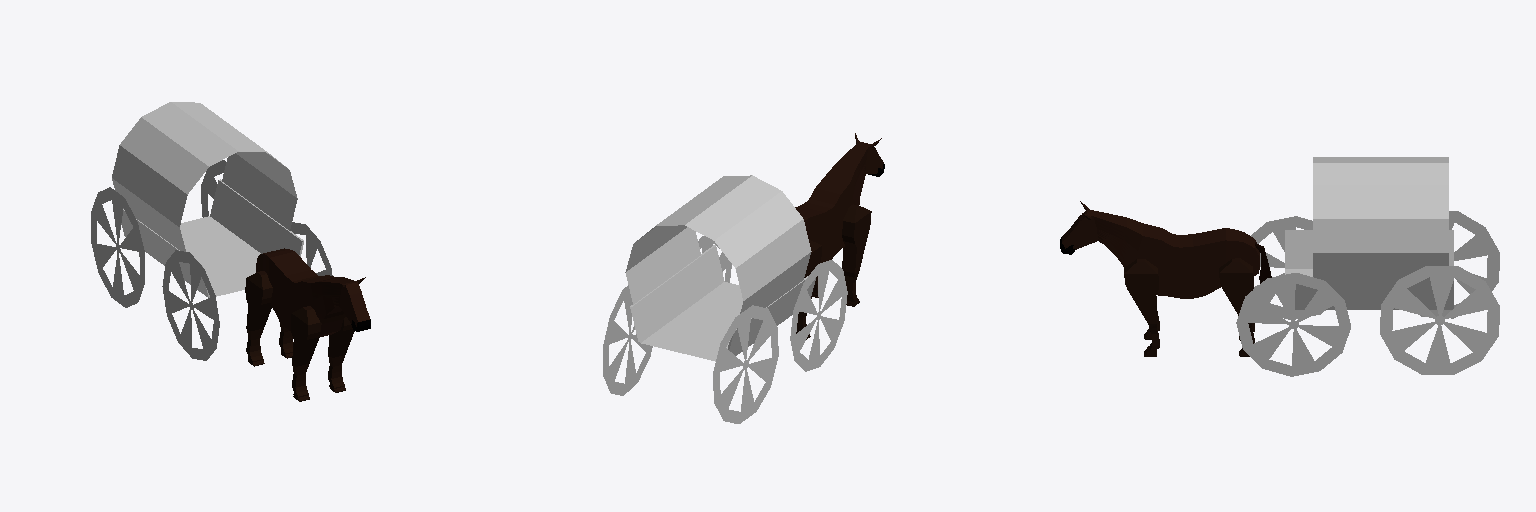
The model's file is oddzialludzikow.mtl.obj.
The picture shows the model from 3 angles: view 1: azimuth 30°, elevation 25°; view 2: azimuth 150°, elevation 25°; view 3: azimuth 270°, elevation 25°; orthographic projection.
Parts seen in each view (by area): view 1: Cube_Cube.001, Cube.002_Cube.003, Cube.001_Cube.002; view 2: Cube_Cube.001, Cube.002_Cube.003, Cube.001_Cube.002; view 3: Cube_Cube.001, Cube.002_Cube.003, Cube.001_Cube.002.
Boxes of the visible parts, x1=… form: Cube_Cube.001: x1=91, y1=102, x2=332, y2=360; Cube.002_Cube.003: x1=256, y1=248, x2=370, y2=336; Cube.001_Cube.002: x1=245, y1=271, x2=354, y2=401; Cube_Cube.001: x1=603, y1=175, x2=847, y2=423; Cube.002_Cube.003: x1=795, y1=133, x2=884, y2=262; Cube.001_Cube.002: x1=796, y1=204, x2=871, y2=339; Cube_Cube.001: x1=1236, y1=157, x2=1499, y2=376; Cube.002_Cube.003: x1=1060, y1=201, x2=1271, y2=298; Cube.001_Cube.002: x1=1124, y1=258, x2=1254, y2=356.
Bounding box in the file's own units: 2.92 × 4.26 × 9.17.